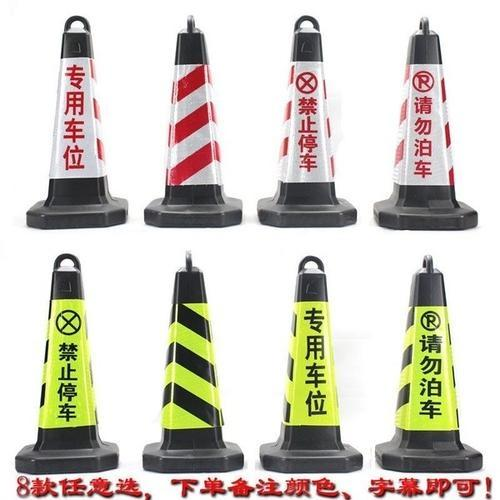cone_barrel: (370, 260, 484, 475), (14, 257, 113, 473), (141, 261, 239, 476), (24, 23, 126, 226), (258, 260, 356, 470), (374, 20, 472, 228), (259, 18, 350, 224), (147, 22, 237, 230)
